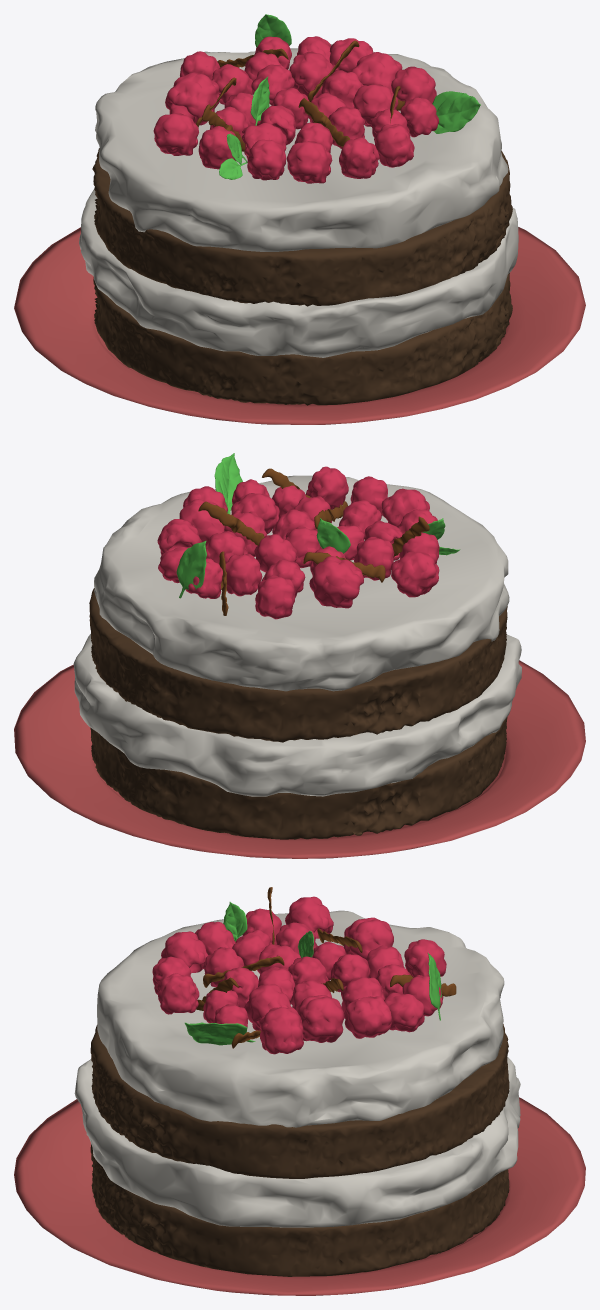
The model's file is cake.glb.
3 renders of one model, top to bottom at view 1: azimuth 30°, elevation 25°; view 2: azimuth 150°, elevation 25°; view 3: azimuth 270°, elevation 25°, orthographic.
Visible parts, largest first — view 1: CreamLayer_Top, Plate, Raspberries, Leaves, Chocolate; view 2: CreamLayer_Top, Plate, Raspberries, Leaves, Chocolate; view 3: CreamLayer_Top, Plate, Raspberries, Leaves, Chocolate.
Part boxes in pixels (x1,y1,x2,y2): CreamLayer_Top: [79, 44, 518, 405]; Plate: [14, 227, 585, 424]; Raspberries: [153, 36, 438, 183]; Leaves: [219, 14, 480, 179]; Chocolate: [196, 40, 405, 151]; CreamLayer_Top: [73, 475, 521, 839]; Plate: [14, 660, 585, 858]; Raspberries: [157, 466, 439, 619]; Leaves: [176, 453, 460, 598]; Chocolate: [198, 468, 429, 615]; CreamLayer_Top: [74, 910, 520, 1276]; Plate: [14, 1097, 585, 1295]; Raspberries: [152, 896, 446, 1054]; Leaves: [184, 902, 441, 1045]; Chocolate: [196, 887, 456, 1048].
Bounding box in the file's own units: 2.42 × 1.22 × 2.42.
